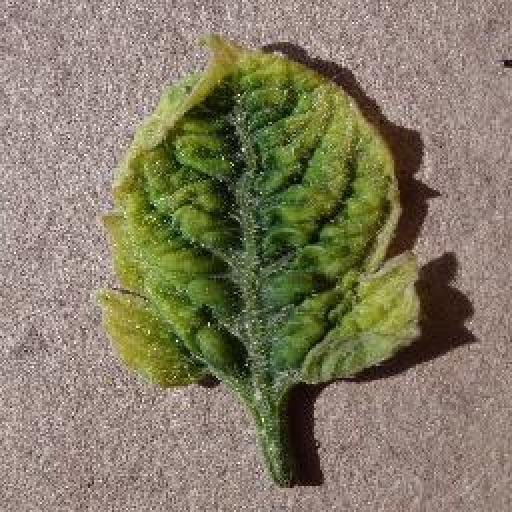Yellow Leaf Curl Virus: (96, 32, 421, 384)
